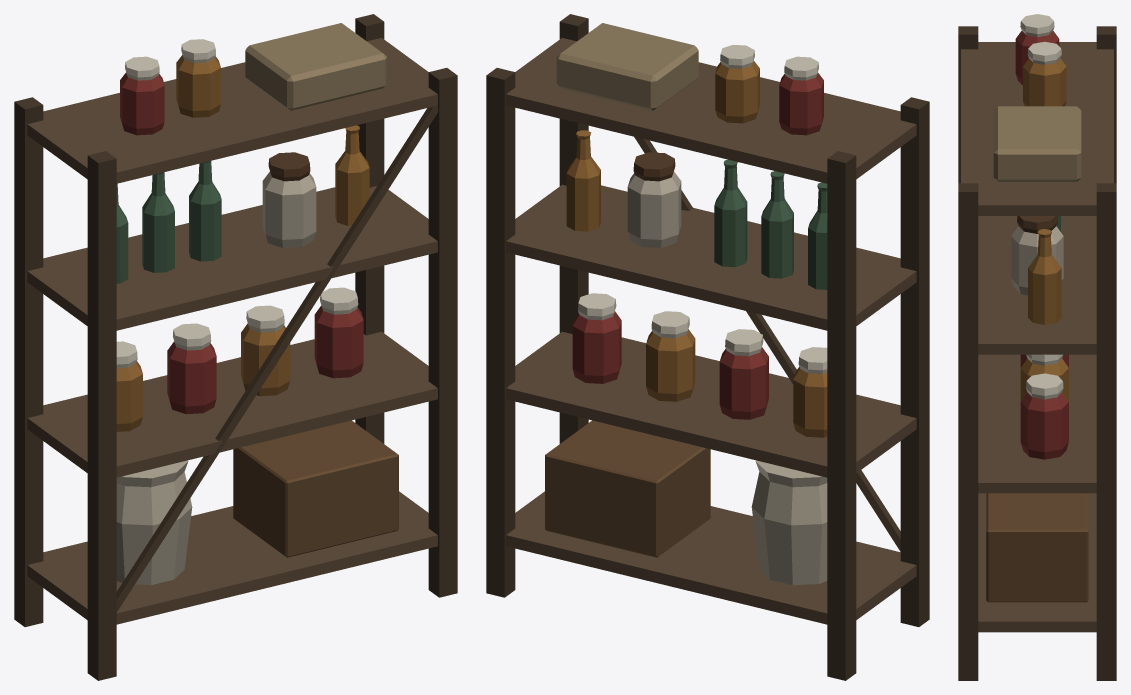
The model's file is prop_shelf.glb.
3 renders of one model, left to right at view 1: azimuth 30°, elevation 25°; view 2: azimuth 150°, elevation 25°; view 3: azimuth 270°, elevation 25°, orthographic. The views are drawn at different scales.
Visible parts, largest first — view 1: prop_shelf; view 2: prop_shelf; view 3: prop_shelf.
Boxes of the visible parts, x1,y1,x2,y2 form: prop_shelf: [14, 14, 457, 680]; prop_shelf: [486, 14, 929, 680]; prop_shelf: [958, 14, 1116, 680].
Bounding box in the file's own units: 1.07 × 1.62 × 0.435.
